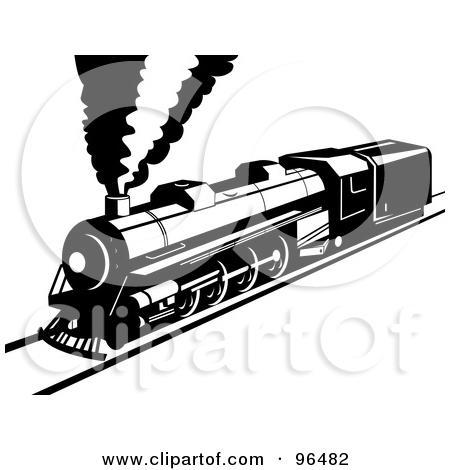train: (26, 138, 442, 371)
